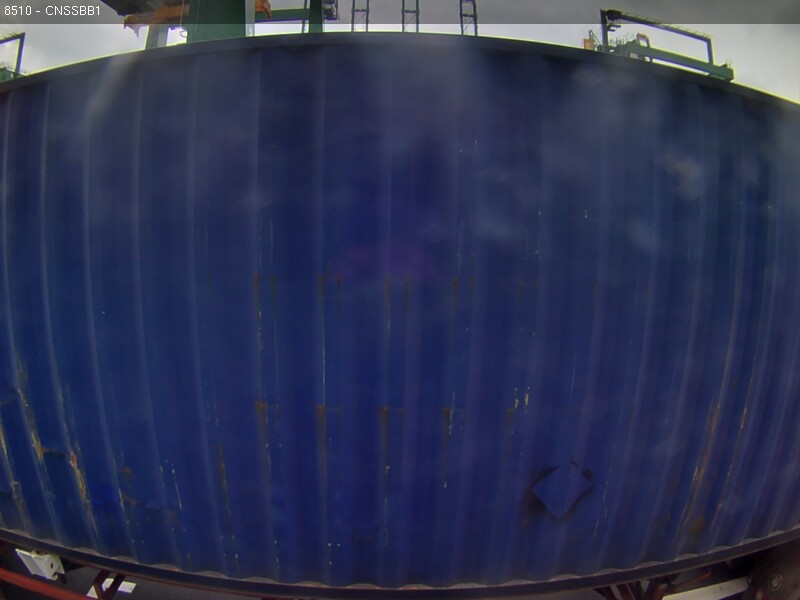container_no_door: (137, 50, 545, 534)
